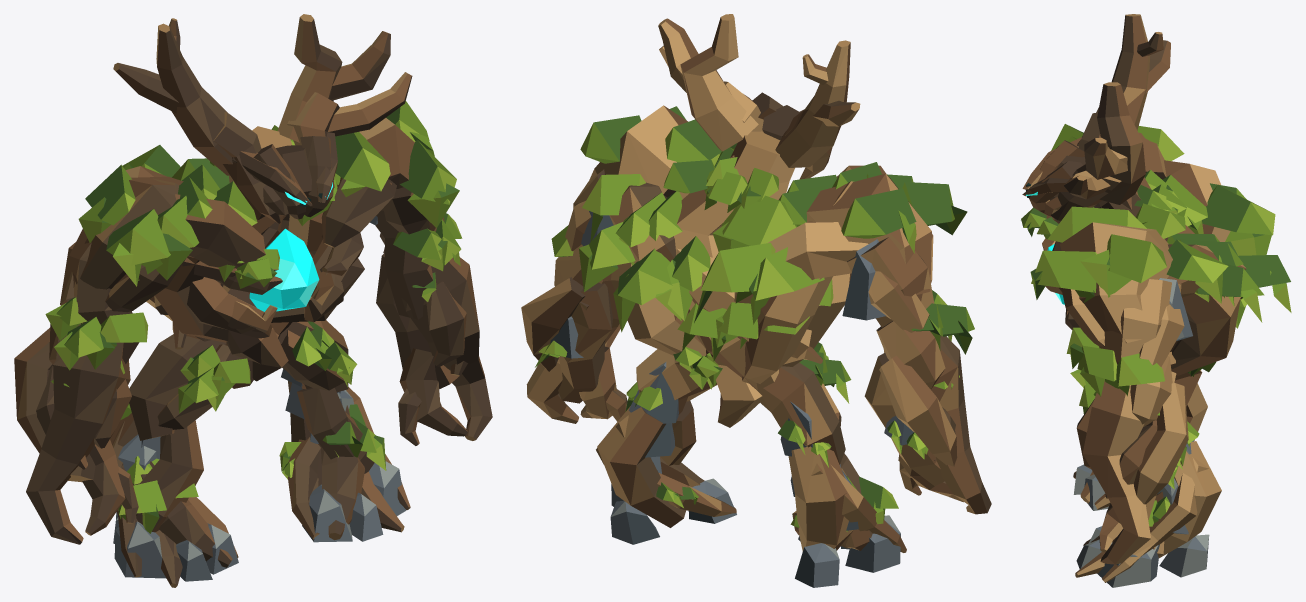
File: tide-root-colossus-complete-pass3.glb
3 views of the same model, side by side, from view 1: azimuth 30°, elevation 25°; view 2: azimuth 150°, elevation 25°; view 3: azimuth 270°, elevation 25° (orthographic). The views are drawn at different scales.
Parts seen in each view (by area): view 1: Forearm main to outer claw -1, Forearm main to outer claw 1, Crown left main, Thigh load root -1, Left clavicle cascade, Outer shoulder root -1, Crown right main, Calf crossing root -1, Exposed turquoise heart, Forearm root split -1, Arm descending trunk 1, Right clavicle cascade (+68 smaller); view 2: Calf rear load 1, Crown right main, Calf rear load -1, Flank bowed trunk -1, Forearm main to outer claw -1, Thigh load root -1, Forearm root split -1, Crown left main, Forearm inner braid 1, Outer shoulder root 1, Left scapular arch, Outer shoulder root -1 (+58 smaller); view 3: Forearm main to outer claw 1, Outer shoulder root 1, Flank bowed trunk 1, Forearm root split 1, Crown right main, Arm descending trunk 1, Crown left main, Left upper back mantle lobed crown 2, Calf rear load 1, Lower leg lateral root 1, Outer shoulder growth 1 lobed crown 1, Outer shoulder growth 1 lobed crown 2 (+43 smaller).
Part boxes in pixels (box(x1,y1,x2,y2)): Forearm main to outer claw -1: box(26, 342, 130, 544); Forearm main to outer claw 1: box(401, 257, 492, 440); Crown left main: box(156, 23, 232, 175); Thigh load root -1: box(129, 334, 227, 440); Left clavicle cascade: box(175, 194, 265, 268); Outer shoulder root -1: box(73, 176, 183, 289); Crown right main: box(277, 14, 342, 142); Calf crossing root -1: box(136, 420, 203, 532); Exposed turquoise heart: box(249, 228, 319, 311); Forearm root split -1: box(14, 327, 52, 453); Arm descending trunk 1: box(375, 208, 444, 319); Right clavicle cascade: box(321, 177, 396, 247); Calf rear load 1: box(597, 406, 686, 527); Crown right main: box(680, 14, 758, 151); Calf rear load -1: box(788, 446, 853, 551); Flank bowed trunk -1: box(742, 276, 832, 383); Forearm main to outer claw -1: box(931, 336, 991, 514); Thigh load root -1: box(751, 362, 845, 464); Forearm root split -1: box(879, 355, 957, 466); Crown left main: box(775, 40, 850, 167); Forearm inner braid 1: box(558, 282, 612, 403); Outer shoulder root 1: box(587, 105, 687, 197); Left scapular arch: box(734, 221, 868, 303); Outer shoulder root -1: box(806, 173, 931, 294); Forearm main to outer claw 1: box(1082, 380, 1150, 564); Outer shoulder root 1: box(1059, 222, 1172, 342); Flank bowed trunk 1: box(1171, 293, 1240, 375); Forearm root split 1: box(1133, 383, 1188, 504); Crown right main: box(1097, 82, 1145, 204); Arm descending trunk 1: box(1099, 279, 1181, 364); Crown left main: box(1096, 14, 1150, 130); Left upper back mantle lobed crown 2: box(1202, 185, 1275, 235); Calf rear load 1: box(1159, 441, 1221, 558); Lower leg lateral root 1: box(1102, 457, 1208, 582); Outer shoulder growth 1 lobed crown 1: box(1107, 234, 1166, 282); Outer shoulder growth 1 lobed crown 2: box(1031, 250, 1097, 292).
Size of the model in its own units: 5.44 by 5.97 by 3.1.
